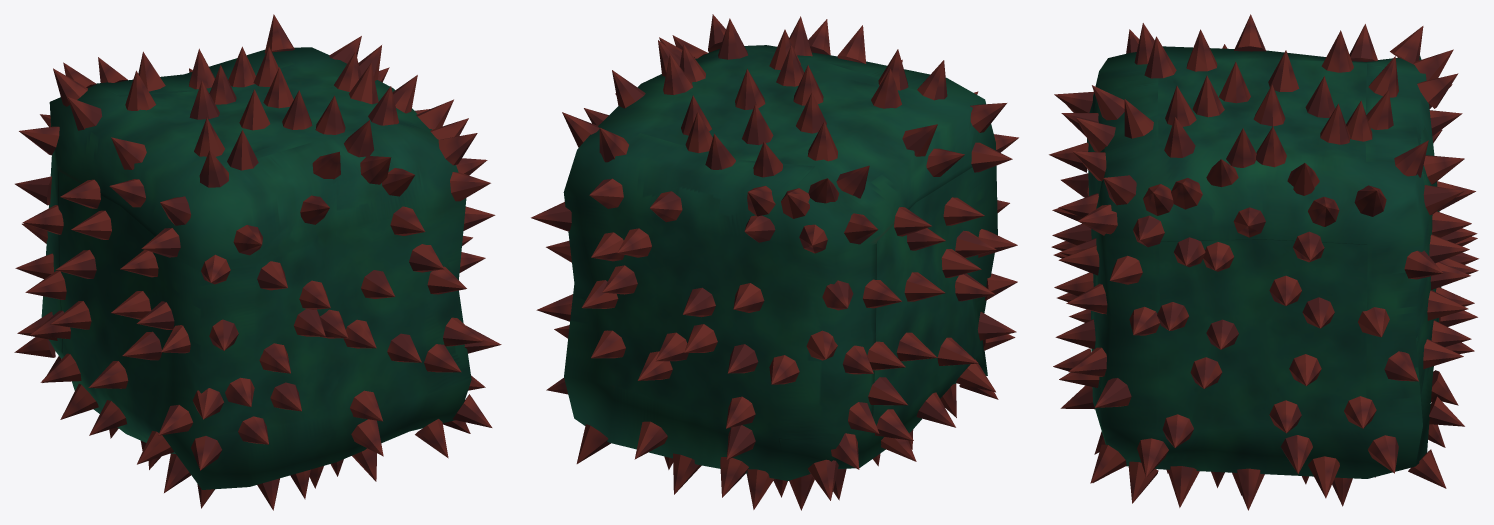
The model's file is angry bush.fbx.
The picture shows the model from 3 angles, left to right: view 1: azimuth 30°, elevation 25°; view 2: azimuth 150°, elevation 25°; view 3: azimuth 270°, elevation 25°; orthographic projection. The views are drawn at different scales.
Parts seen in each view (by area): view 1: Cube.004_lp.001, Cube.004_lp.002; view 2: Cube.004_lp.001, Cube.004_lp.002; view 3: Cube.004_lp.001, Cube.004_lp.002.
Part boxes in pixels (<box>): Cube.004_lp.001: <box>41,47,471,489</box>; Cube.004_lp.002: <box>14,14,501,510</box>; Cube.004_lp.001: <box>563,45,997,480</box>; Cube.004_lp.002: <box>531,14,1018,510</box>; Cube.004_lp.001: <box>1087,46,1441,478</box>; Cube.004_lp.002: <box>1049,14,1478,510</box>.
Size of the model in its own units: 5.26 by 5.22 by 5.23.
Materials: 1 (1 with a texture image).
